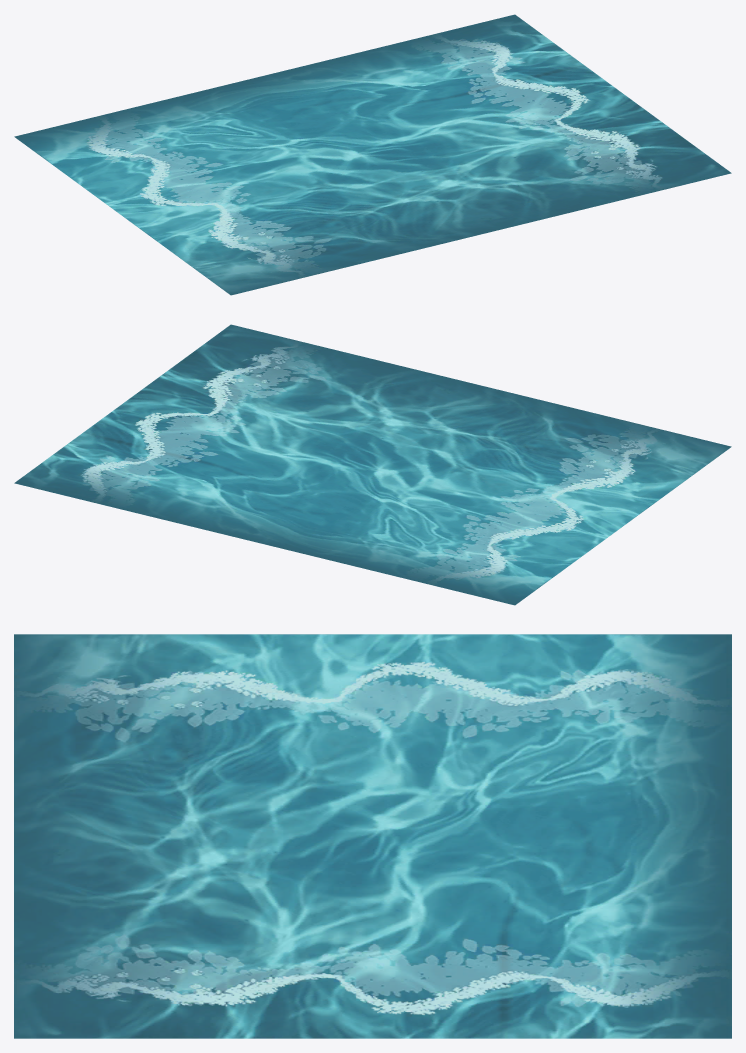
Rendered from water (1) 1.fbx.
3 views of the same model, one above another, from view 1: azimuth 30°, elevation 25°; view 2: azimuth 150°, elevation 25°; view 3: azimuth 270°, elevation 25° (orthographic). The views are drawn at different scales.
Parts seen in each view (by area): view 1: water (1); view 2: water (1); view 3: water (1).
Part boxes in pixels (left/top/right/bottom): water (1): left=14, top=14, right=731, bottom=295; water (1): left=14, top=324, right=731, bottom=605; water (1): left=14, top=634, right=731, bottom=1038.
Bounding box in the file's own units: 200 × 5.36e-05 × 150.
